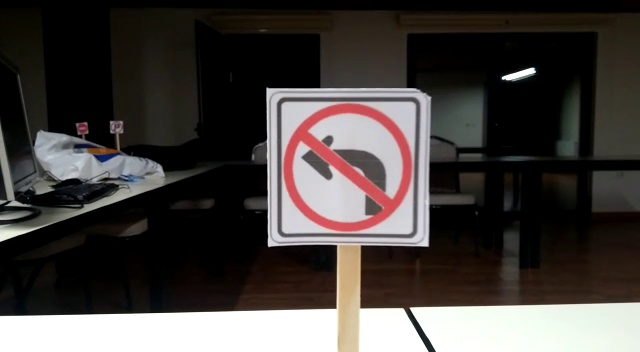sola_donulmez: (273, 102, 416, 238)
